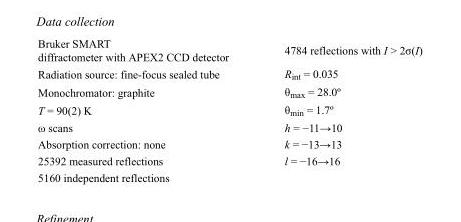table: (37, 36, 421, 183)
table column: (37, 36, 255, 183), (255, 36, 421, 183)
table row: (37, 36, 421, 64), (37, 64, 421, 82), (37, 82, 421, 100), (37, 100, 421, 118), (37, 118, 421, 135), (37, 135, 421, 152), (37, 152, 421, 168), (37, 168, 421, 183)
